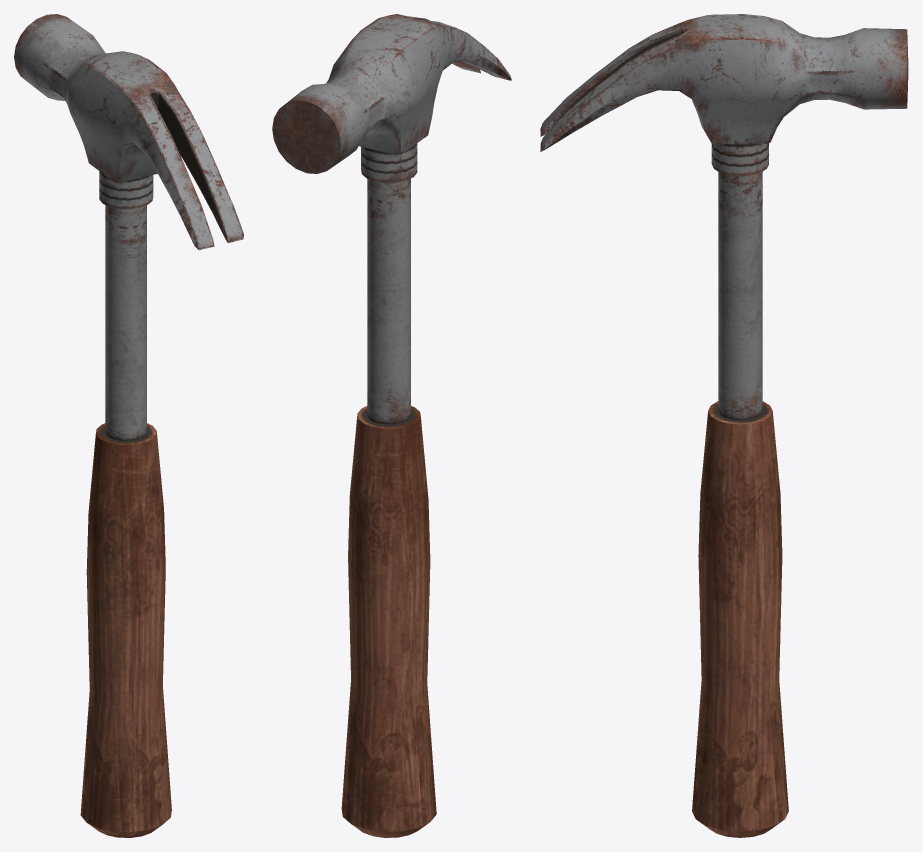
Rendered from YangJiaoChui.fbx.
3 renders of one model, left to right at view 1: azimuth 30°, elevation 25°; view 2: azimuth 150°, elevation 25°; view 3: azimuth 270°, elevation 25°, orthographic. The views are drawn at different scales.
Visible parts, largest first — view 1: YangJiaoChui; view 2: YangJiaoChui; view 3: YangJiaoChui.
Boxes of the visible parts, x1,y1,x2,y2 form: YangJiaoChui: (14,14,243,837); YangJiaoChui: (272,14,511,837); YangJiaoChui: (540,14,908,837).
Size of the model in its own units: 3.84 by 34.98 by 14.57.
Materials: 1 (1 with a texture image).
